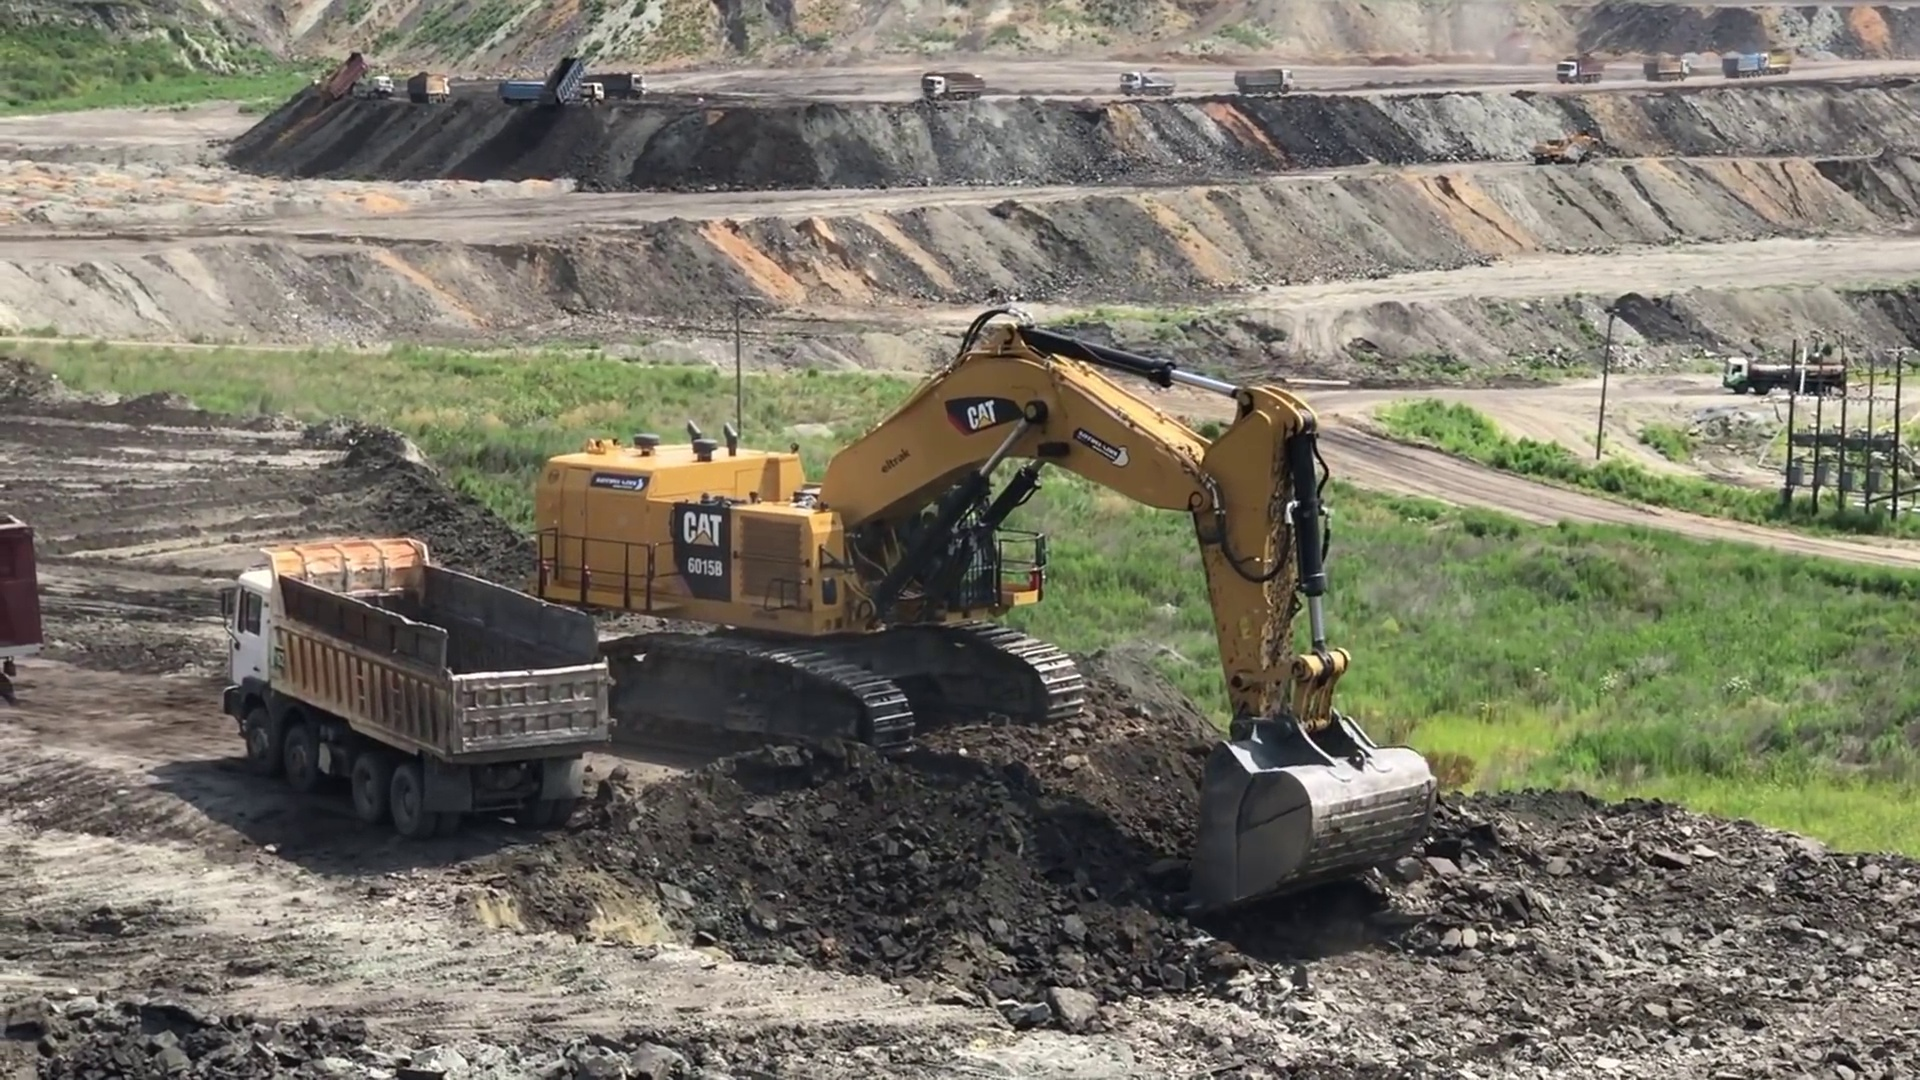excavator: (543, 323, 1447, 942)
truck: (235, 520, 605, 833), (1721, 348, 1844, 400), (502, 71, 651, 105), (328, 51, 388, 98), (1125, 51, 1174, 102), (923, 70, 985, 104), (1725, 51, 1791, 76), (1233, 65, 1298, 87), (1549, 55, 1600, 80), (415, 71, 447, 104), (1648, 59, 1701, 79)
